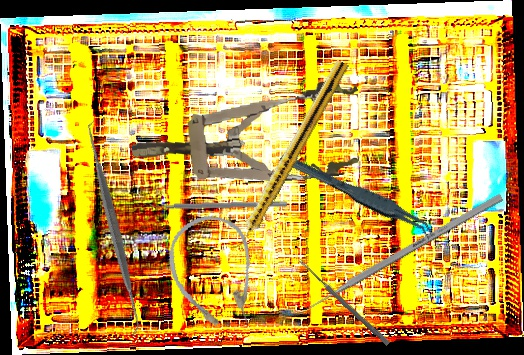Cannula: (158, 206, 270, 342)
Handpiece: (228, 57, 350, 255)
Pusher: (294, 192, 504, 319)
Spatula Surgical: (3, 119, 224, 337), (145, 194, 288, 212)
Speculum: (126, 78, 367, 197)
Surgical Spoon: (297, 258, 391, 346)
Tissue Forceps: (278, 136, 437, 254)
